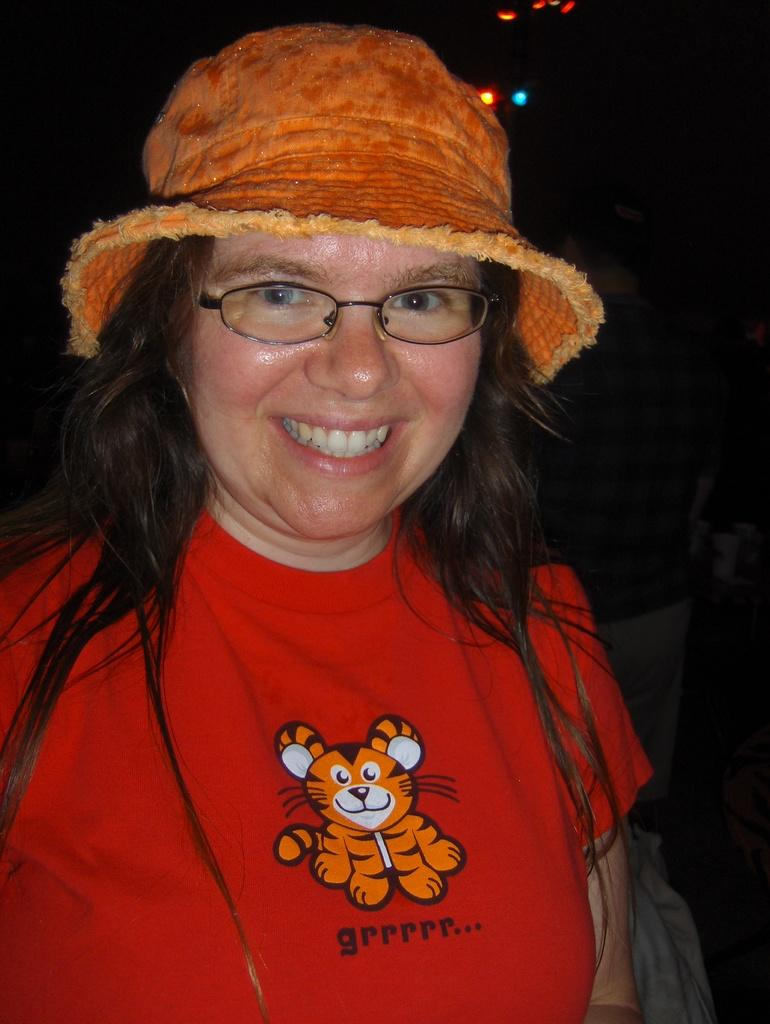Hat: (58, 23, 611, 399)
